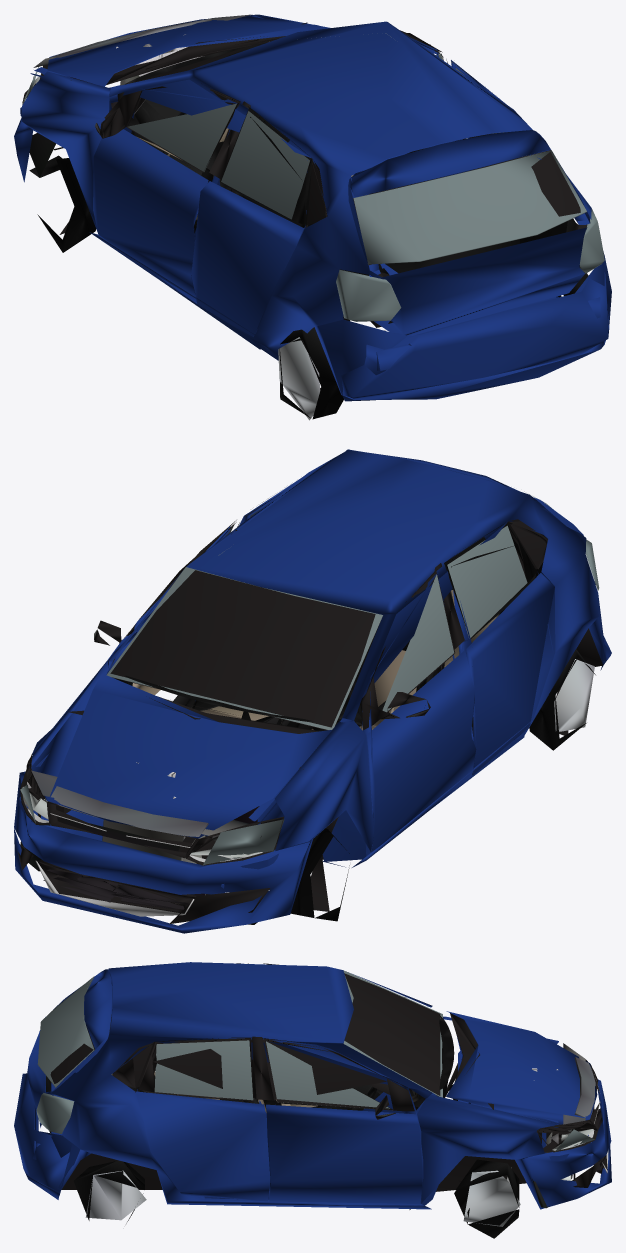
File: vw_polo_lod1.gltf
3 renders of one model, top to bottom at view 1: azimuth 30°, elevation 25°; view 2: azimuth 150°, elevation 25°; view 3: azimuth 270°, elevation 25°, orthographic. The views are drawn at different scales.
Visible parts, largest first — view 1: Body; view 2: Body; view 3: Body.
Boxes of the visible parts, left/top/right/bottom form: Body: left=14, top=14, right=611, bottom=420; Body: left=14, top=449, right=611, bottom=933; Body: left=14, top=962, right=611, bottom=1238.
Size of the model in its own units: 1.93 by 1.44 by 3.96.
